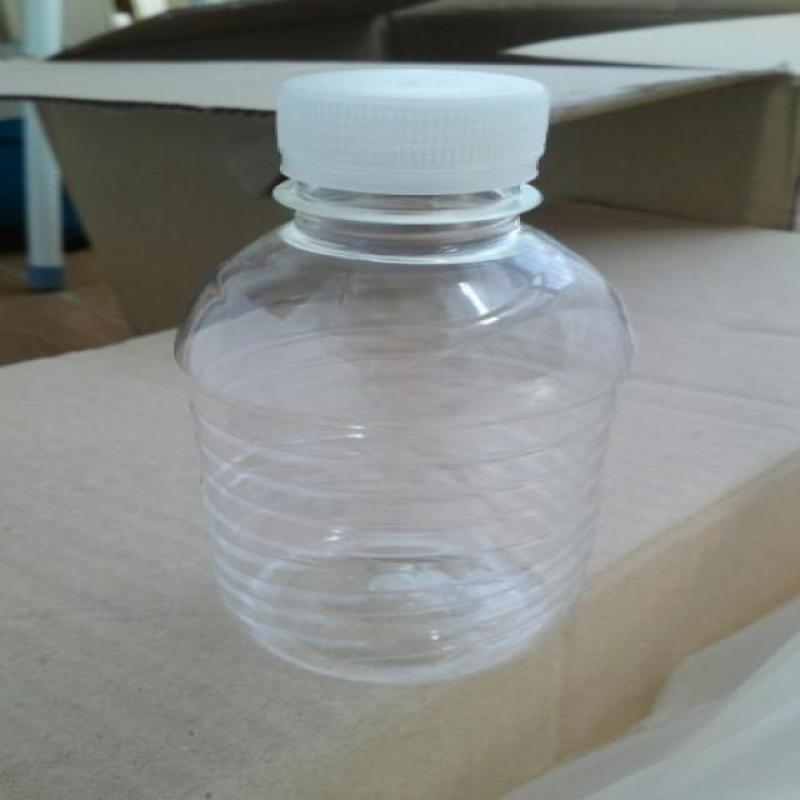botella: (186, 73, 641, 685)
